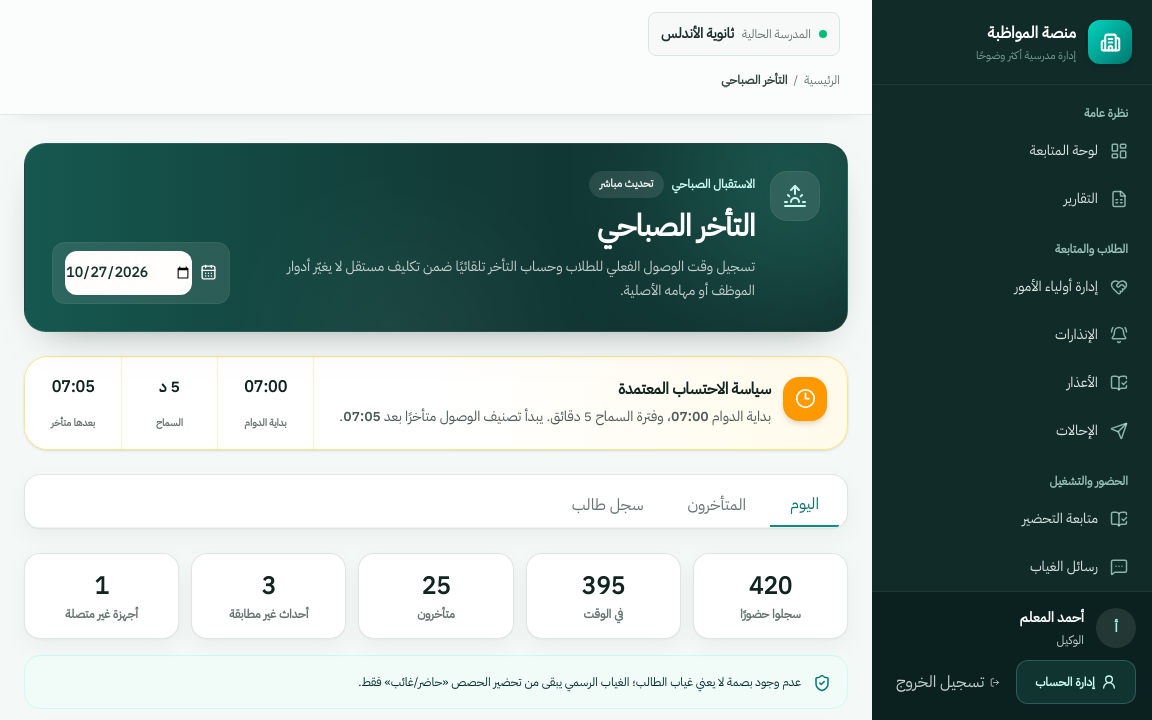
morning attendance UI (Phase 8.5) › shows student morning late history with minutes-to-hours display
Click the tab "سجل طالب" at (608, 504), box x1=552 y1=482 x2=663 y2=526
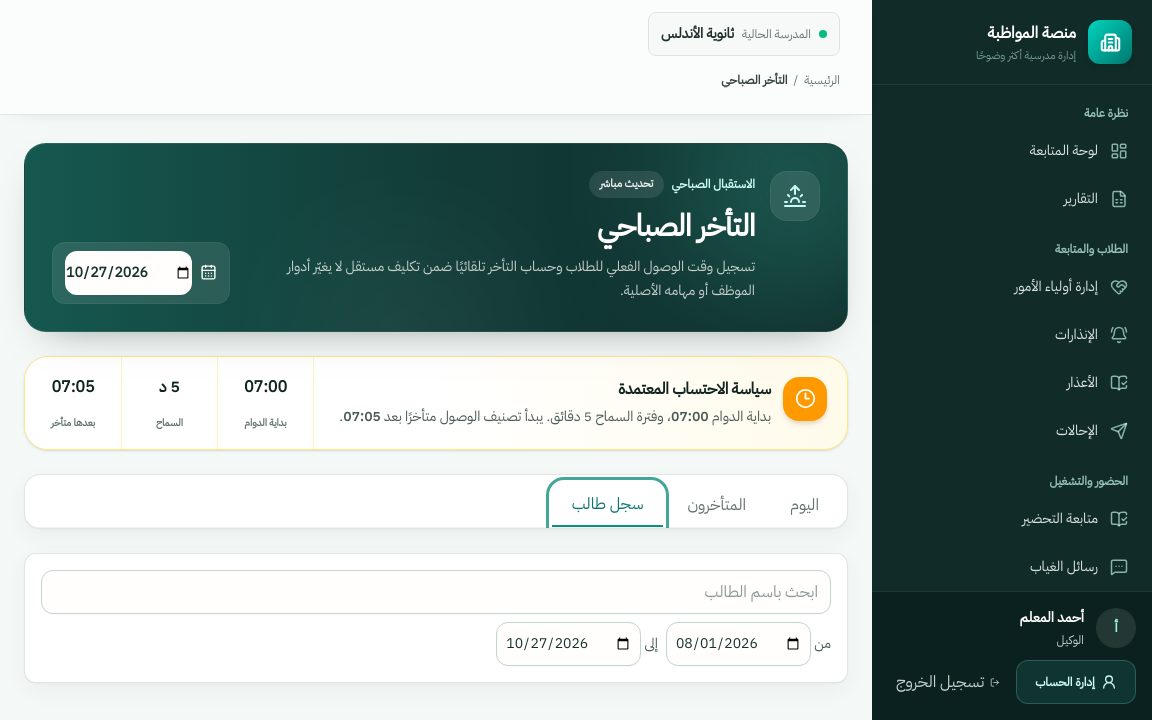
Type "محمد" into the field named "بحث عن طالب" at (436, 592), box x1=41 y1=570 x2=831 y2=614
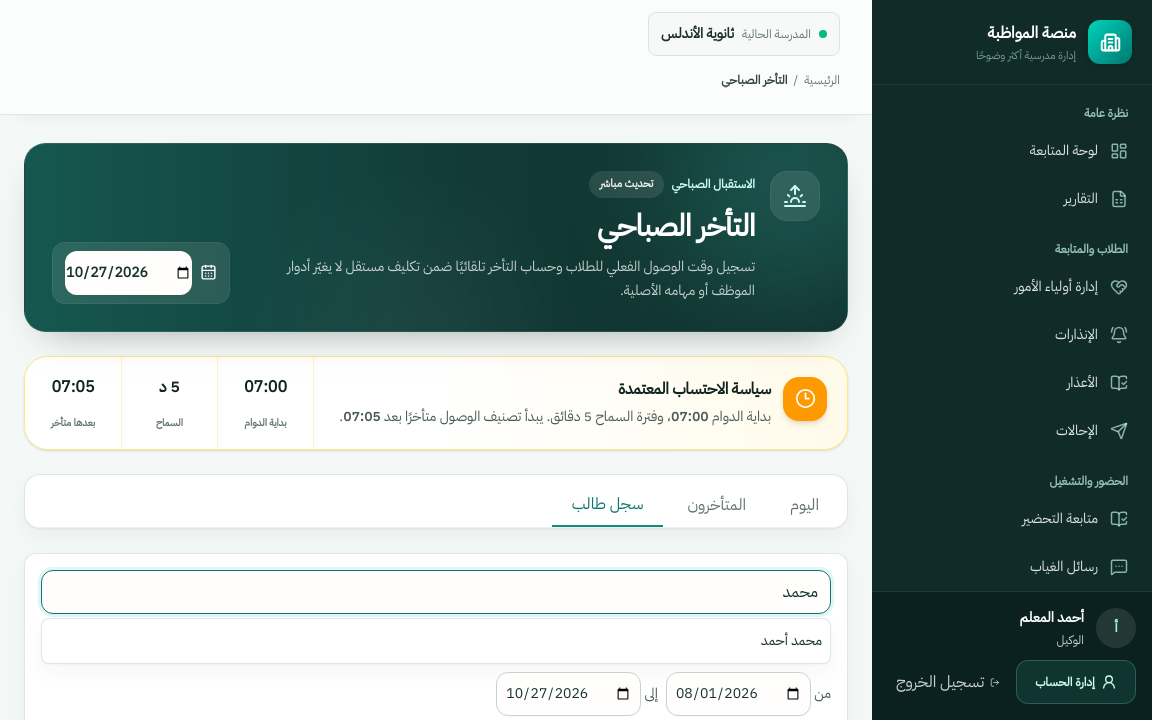
Click the button with test id "pick-student-5" at (792, 640), box x1=42 y1=618 x2=830 y2=662
(page scrolled)
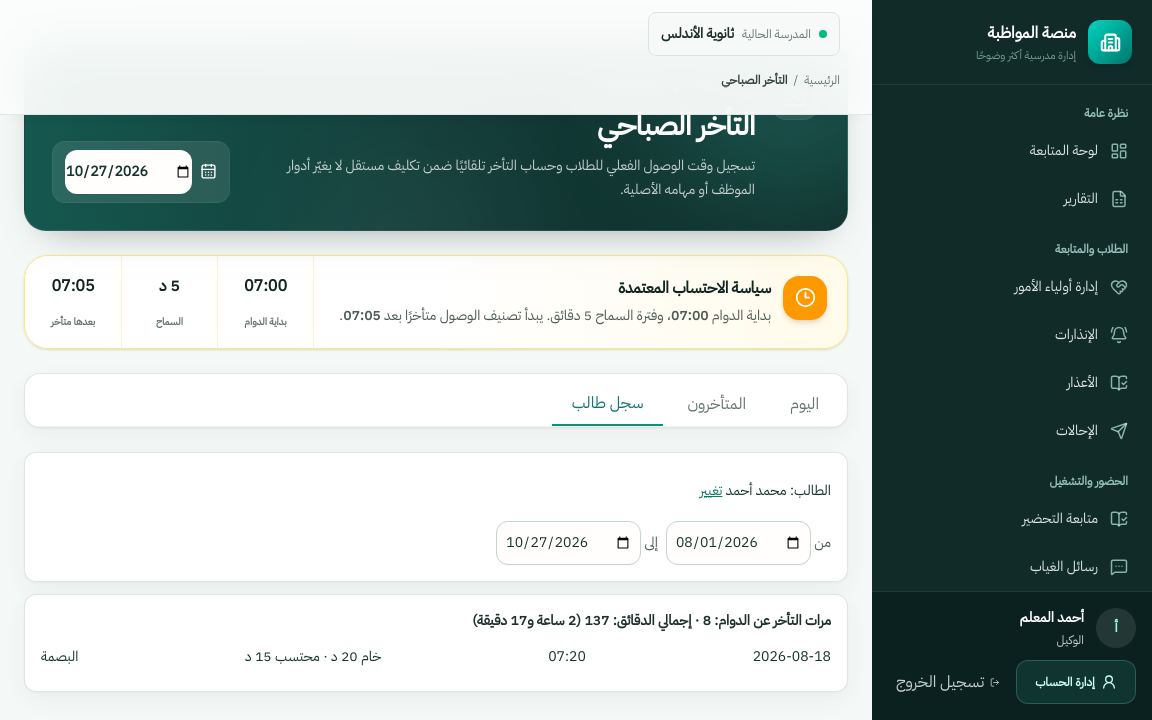
Check: the text with test id "history-summary" shows "مرات التأخر عن الدوام: 8", box x1=472 y1=610 x2=831 y2=630
Check: the text with test id "history-summary" shows "137", box x1=584 y1=610 x2=609 y2=630
Check: the text with test id "history-summary" shows "2 ساعة و17 دقيقة", box x1=477 y1=610 x2=576 y2=630
